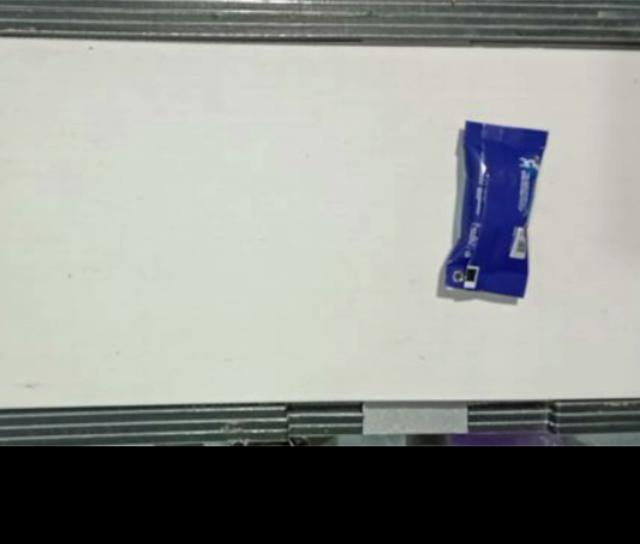Plastik: (443, 121, 549, 296)
